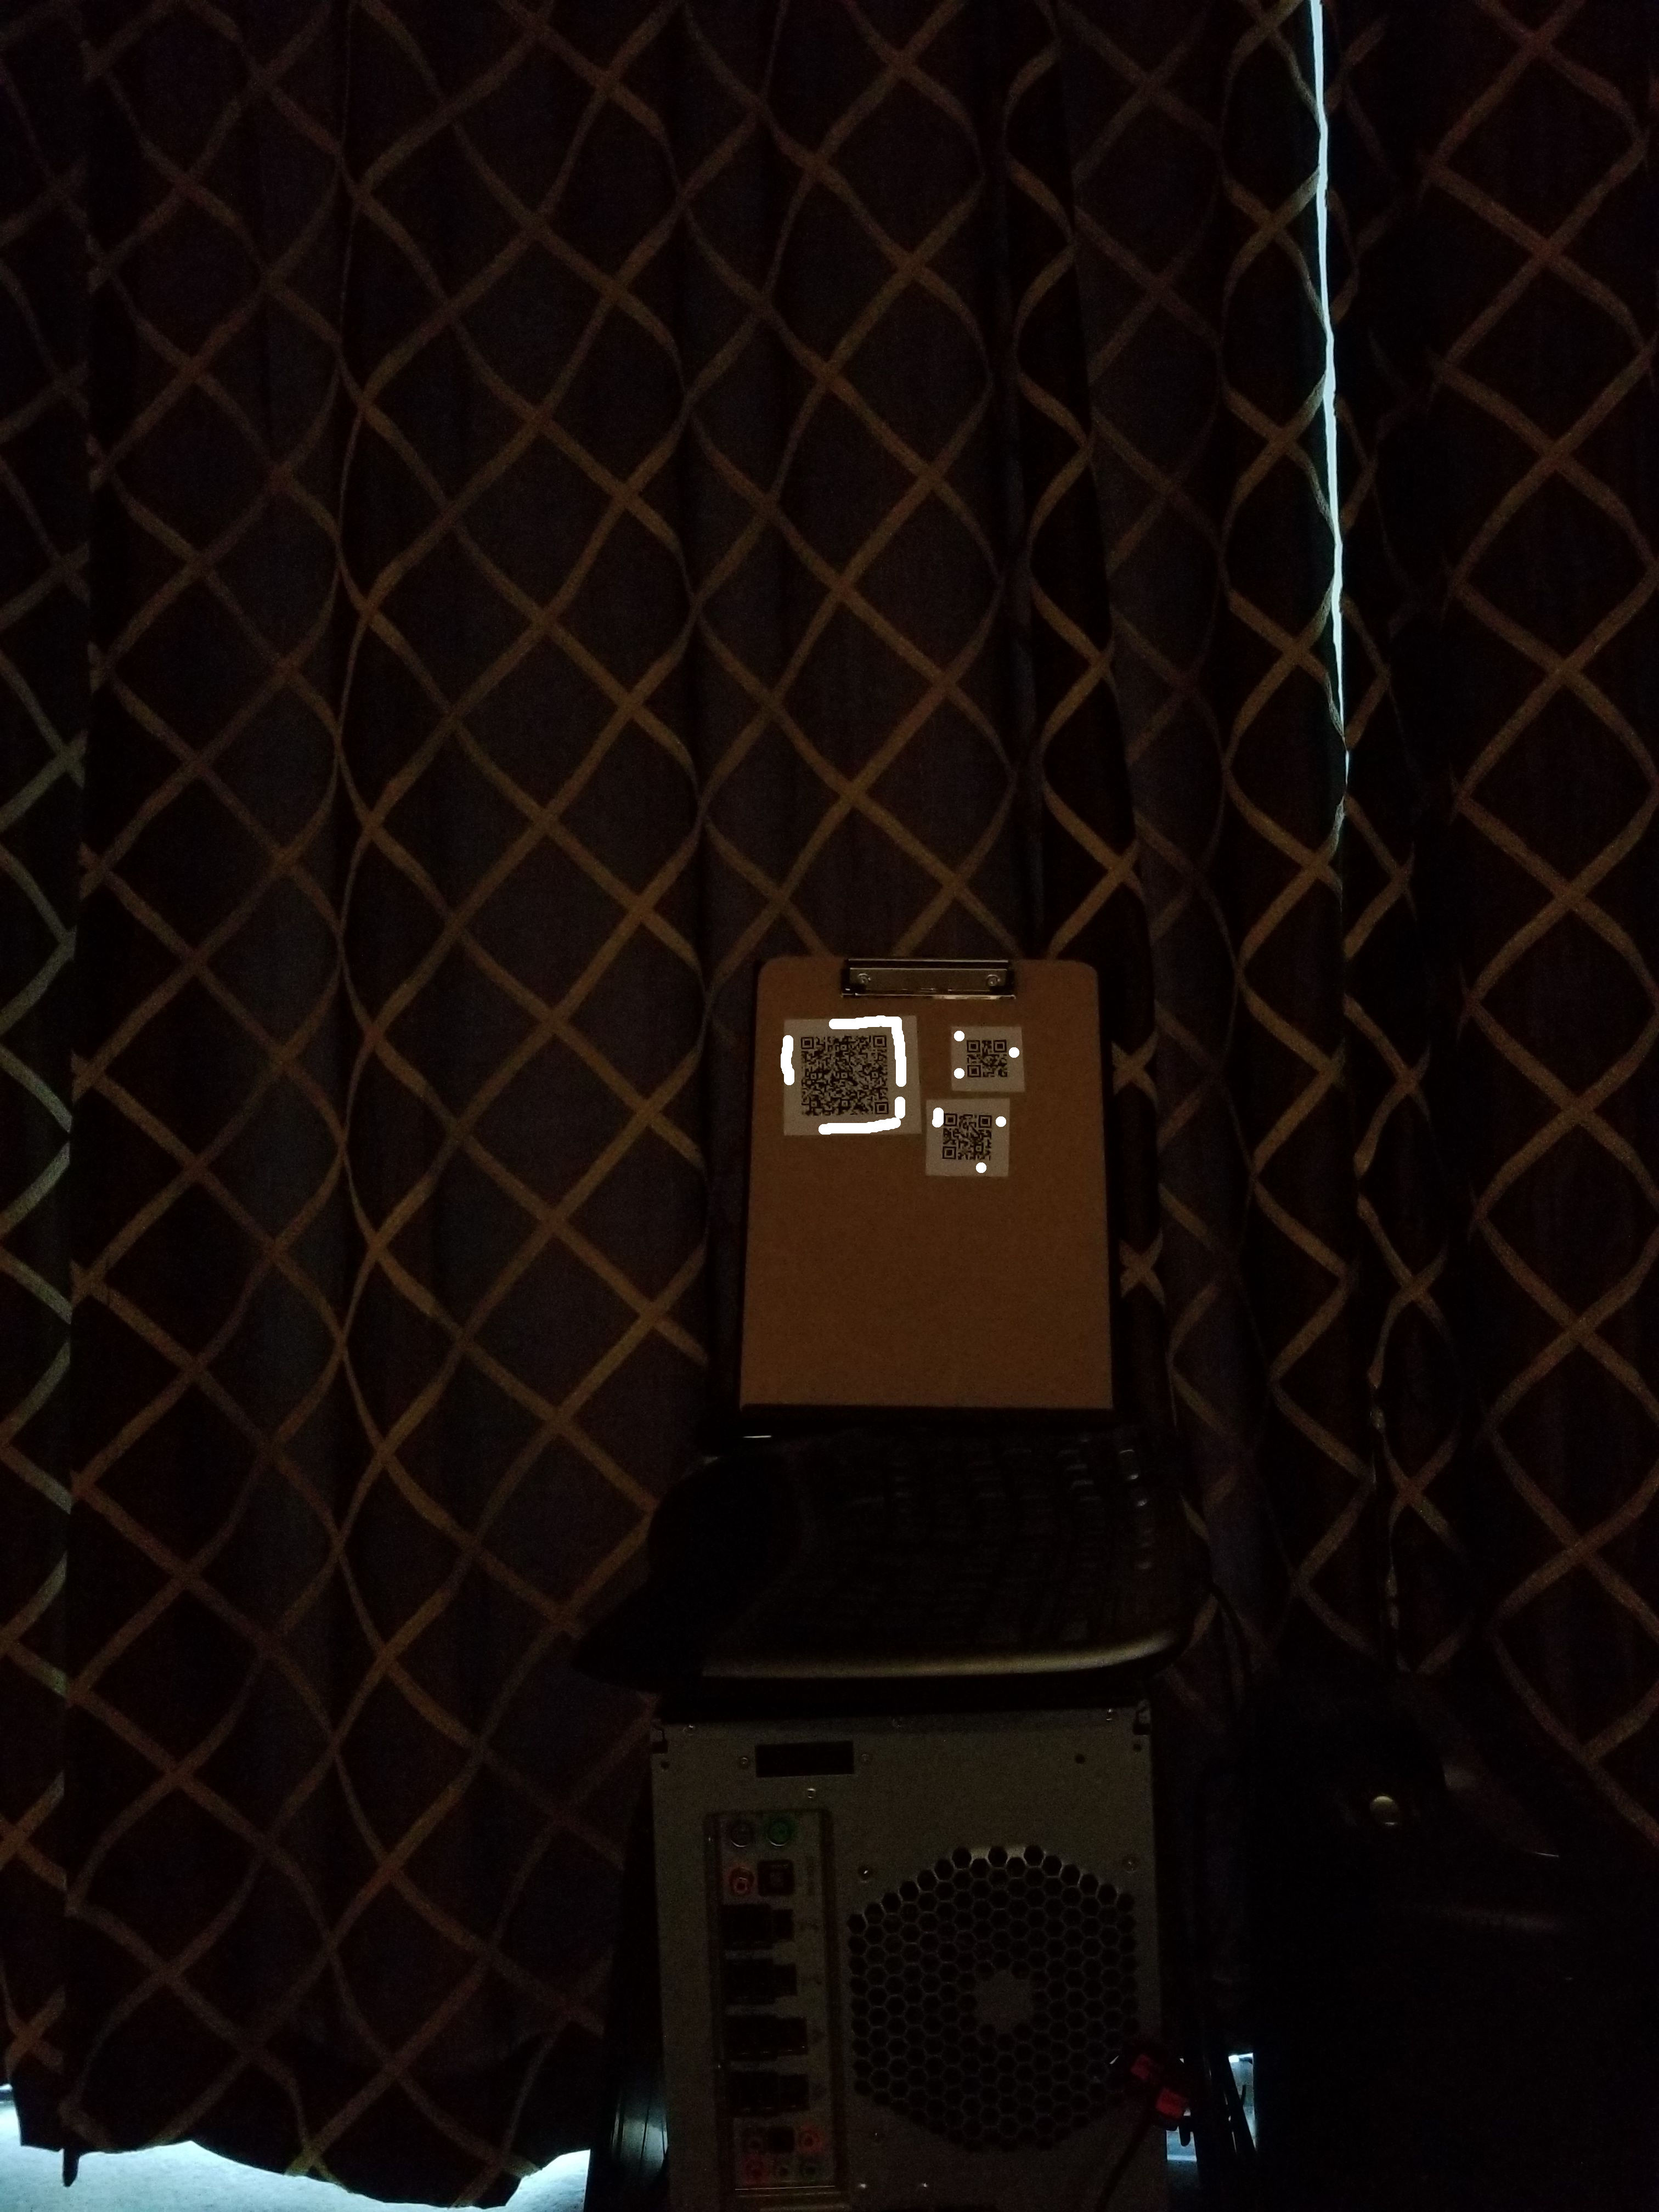QR_CODE: (791, 1007, 908, 1141), (931, 1106, 1011, 1181), (950, 1017, 1026, 1094)
